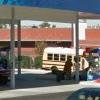buses: (42, 47, 77, 77)
